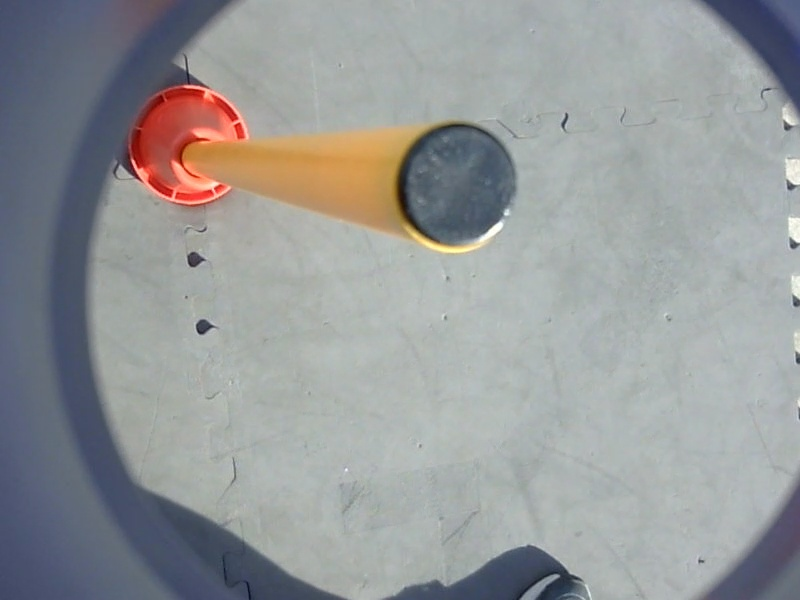tip: (383, 116, 525, 261)
